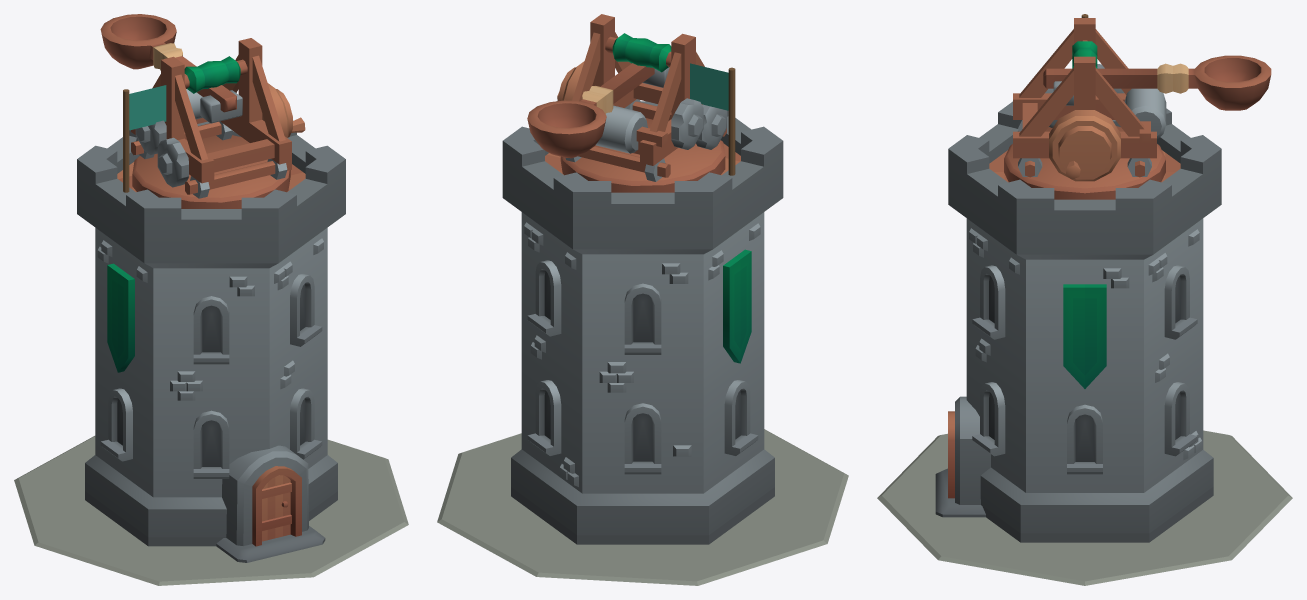
Rendered from tower-teal.glb.
3 views of the same model, side by side, from view 1: azimuth 30°, elevation 25°; view 2: azimuth 150°, elevation 25°; view 3: azimuth 270°, elevation 25° (orthographic). The views are drawn at different scales.
Visible parts, largest first — view 1: building_tower_catapult_green, worn-foundation, catapult_turret_green, catapult_arm_green, team-standard, standard-pole; view 2: building_tower_catapult_green, worn-foundation, catapult_turret_green, catapult_arm_green, team-standard, standard-pole; view 3: building_tower_catapult_green, worn-foundation, catapult_turret_green, catapult_arm_green.
Boxes of the visible parts, x1,y1,x2,y2 form: building_tower_catapult_green: [77, 120, 345, 562]; worn-foundation: [14, 436, 408, 585]; catapult_turret_green: [131, 38, 305, 208]; catapult_arm_green: [100, 14, 242, 123]; team-standard: [129, 85, 166, 130]; standard-pole: [123, 89, 129, 192]; building_tower_catapult_green: [502, 101, 783, 544]; worn-foundation: [437, 429, 848, 585]; catapult_turret_green: [557, 14, 726, 192]; catapult_arm_green: [527, 63, 669, 158]; team-standard: [690, 63, 728, 110]; standard-pole: [728, 67, 735, 175]; building_tower_catapult_green: [935, 101, 1221, 542]; worn-foundation: [877, 430, 1292, 585]; catapult_turret_green: [1004, 18, 1166, 199]; catapult_arm_green: [1043, 55, 1271, 110].
Size of the model in its own units: 4.36 by 5.3 by 4.36.
Materials: 4 (1 with a texture image).
